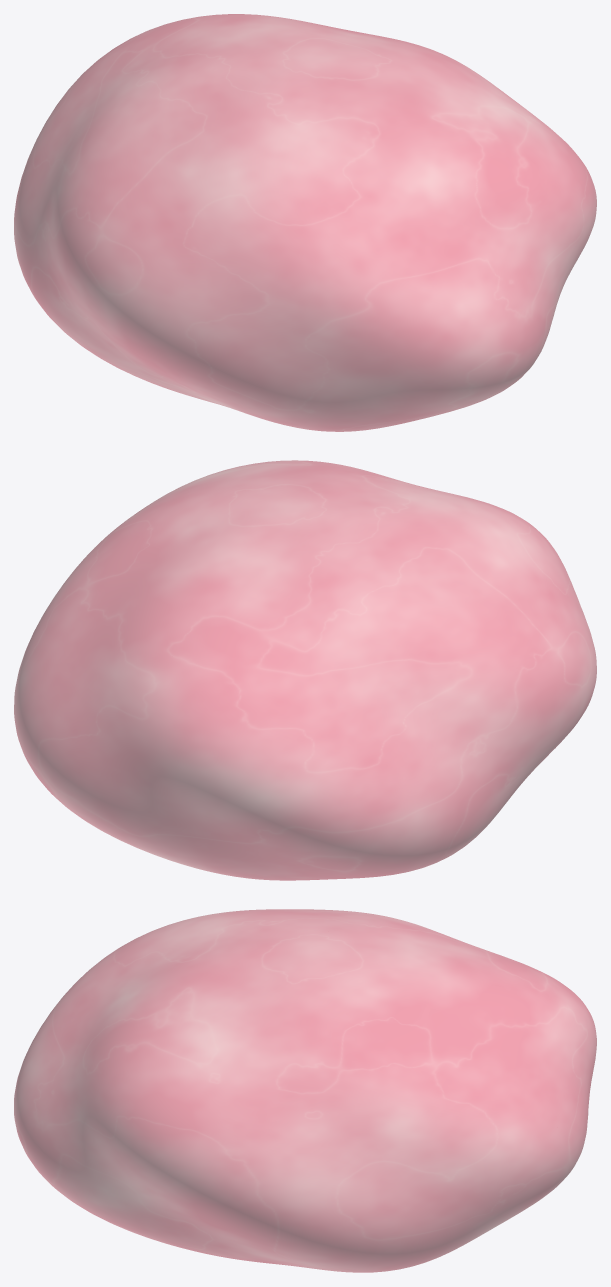
File: rose-quartz.glb
3 renders of one model, top to bottom at view 1: azimuth 30°, elevation 25°; view 2: azimuth 150°, elevation 25°; view 3: azimuth 270°, elevation 25°, orthographic. The views are drawn at different scales.
Parts seen in each view (by area): view 1: rose-quartz.001; view 2: rose-quartz.001; view 3: rose-quartz.001.
Part boxes in pixels (x1,y1,x2,y2): rose-quartz.001: (14, 14, 596, 431); rose-quartz.001: (14, 460, 596, 880); rose-quartz.001: (14, 909, 596, 1272).
Size of the model in its own units: 2.18 by 1.39 by 2.5.
1 material, 1 textured.
